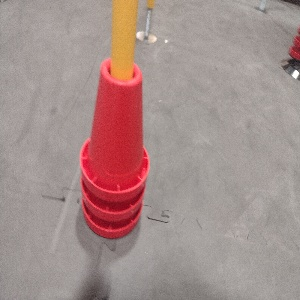Red_3: (78, 54, 151, 240)
